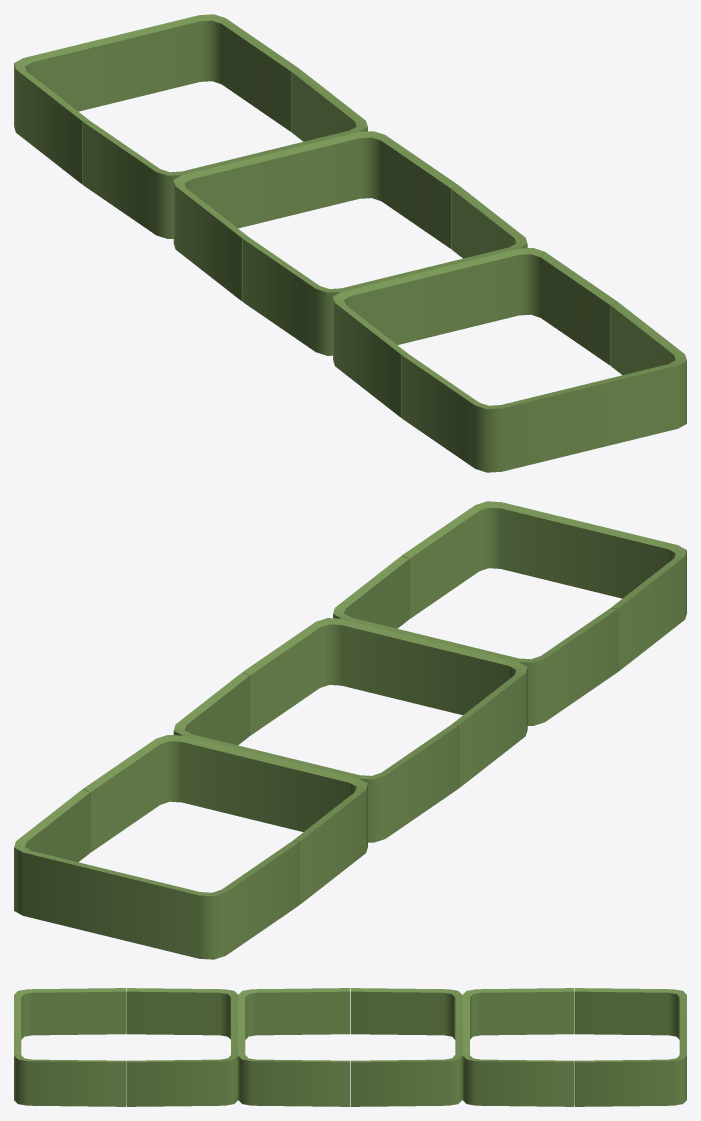
Rendered from DindingSel.glb.
3 renders of one model, top to bottom at view 1: azimuth 30°, elevation 25°; view 2: azimuth 150°, elevation 25°; view 3: azimuth 270°, elevation 25°, orthographic. The views are drawn at different scales.
Parts seen in each view (by area): view 1: DindingSel.001, DindingSel.002, DindingSel; view 2: DindingSel.002, DindingSel, DindingSel.001; view 3: DindingSel.002, DindingSel, DindingSel.001.
Part boxes in pixels (x1=…): DindingSel.001: x1=333, y1=248, x2=686, y2=472; DindingSel.002: x1=14, y1=14, x2=367, y2=238; DindingSel: x1=173, y1=131, x2=527, y2=355; DindingSel.002: x1=14, y1=735, x2=367, y2=959; DindingSel: x1=173, y1=618, x2=527, y2=842; DindingSel.001: x1=333, y1=501, x2=686, y2=725; DindingSel.002: x1=462, y1=988, x2=686, y2=1106; DindingSel: x1=238, y1=988, x2=462, y2=1106; DindingSel.001: x1=14, y1=988, x2=238, y2=1106.
Size of the model in its own units: 2.16 by 0.6032 by 8.26.
